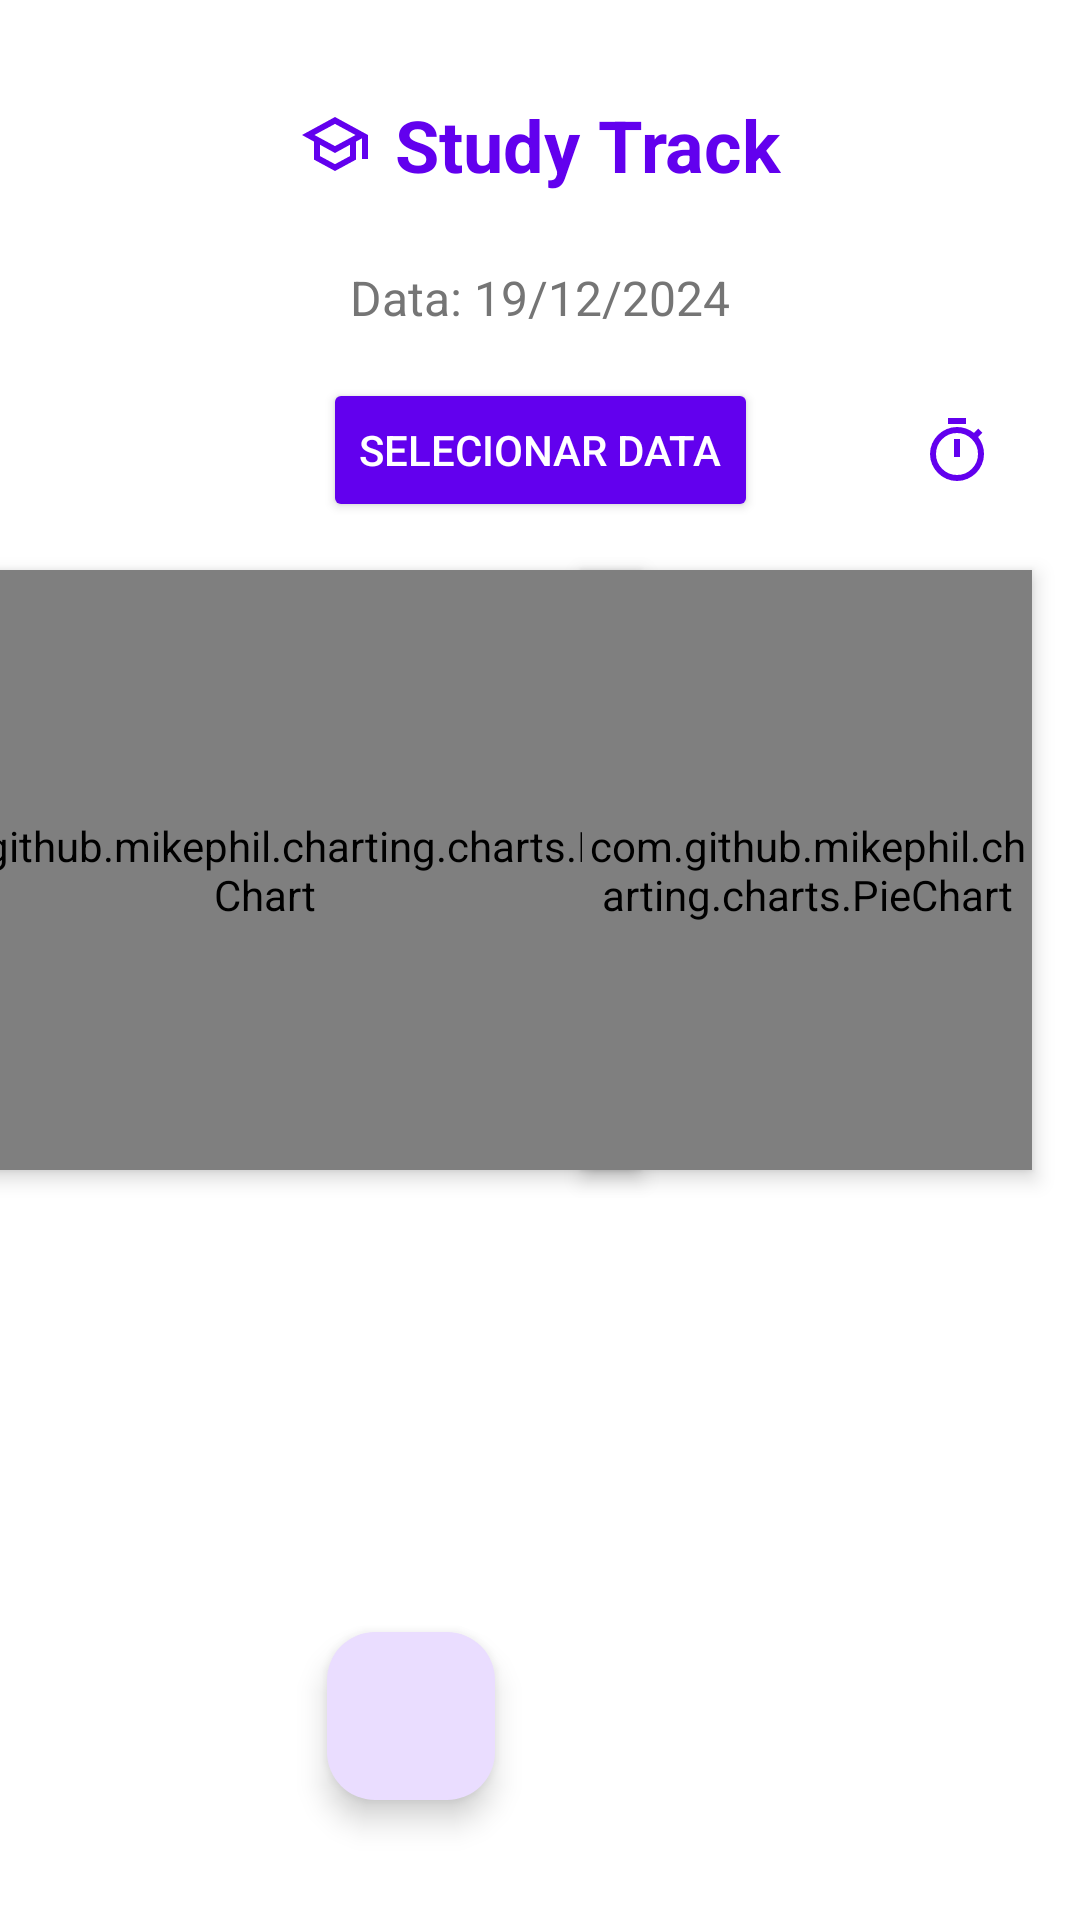

Icon click points for this 1080w x 1920h phone screenshot, format [x,y]:
clock: [957,449]
